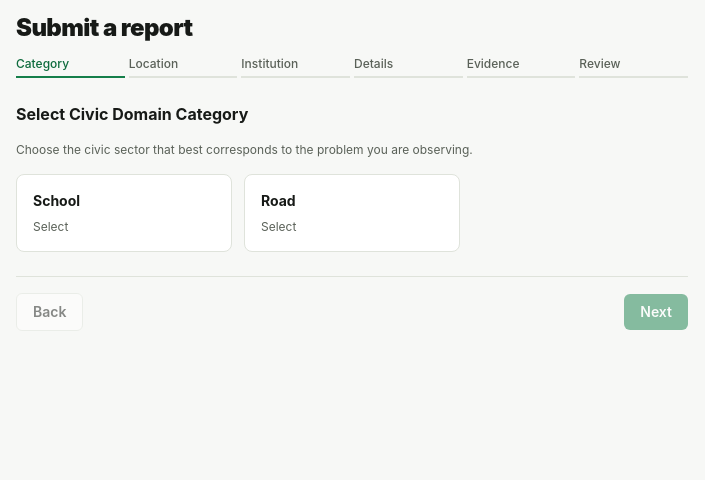
SubmitWizard component › renders category selection step and advances when category chosen
Expected: the text "school" is shown, left=33, top=191, right=80, bottom=211
Expected: the text "road" is shown, left=261, top=191, right=296, bottom=211
Click the button "road Select": click(352, 213) left=244, top=174, right=460, bottom=252
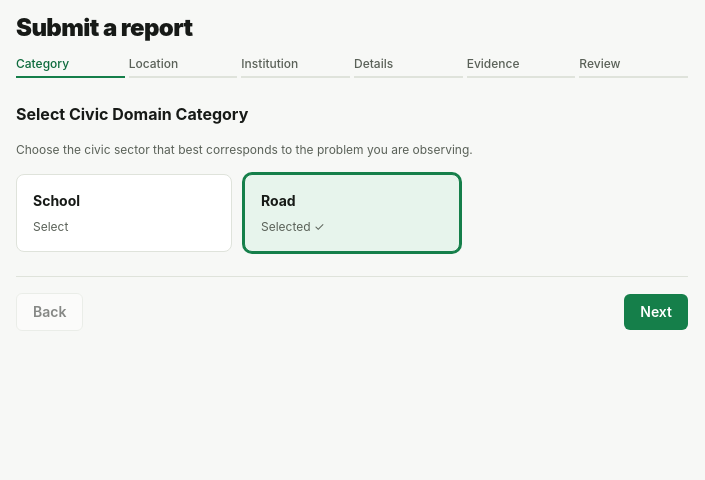
Now the button "Next" is enabled
Click the button "Next": click(656, 312) left=624, top=294, right=688, bottom=330
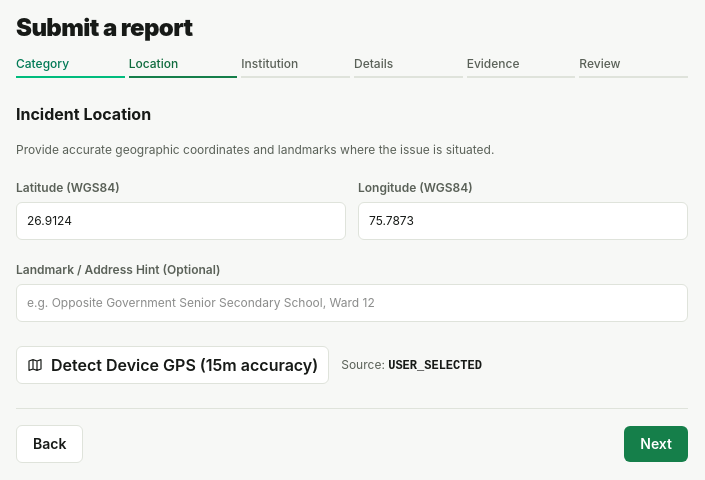
Now the heading "Incident Location" is shown, box left=16, top=104, right=151, bottom=124
